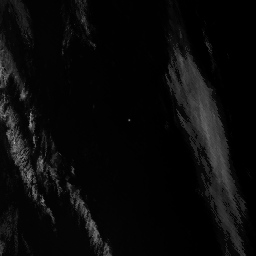Target: (126, 117, 132, 122)
